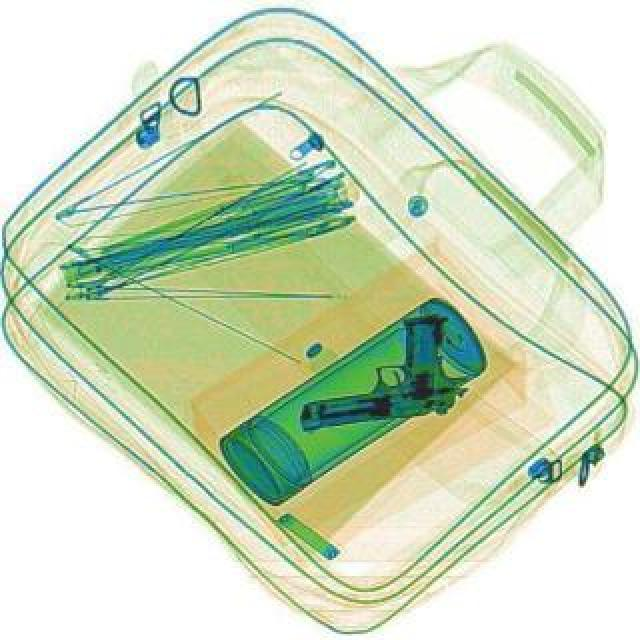gun: (284, 312, 472, 430)
